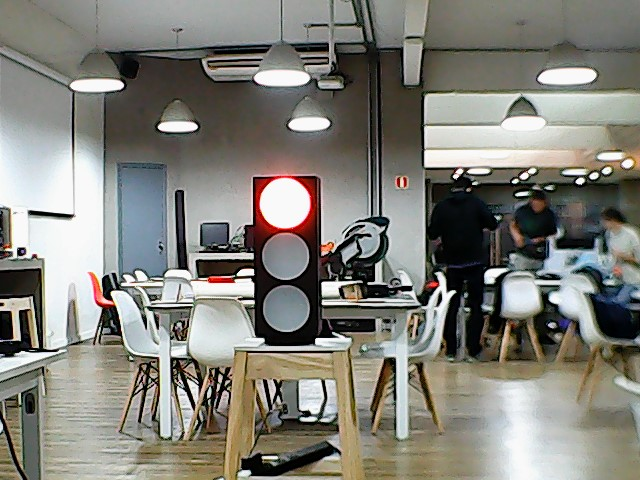vermelho: (250, 174, 328, 348)
